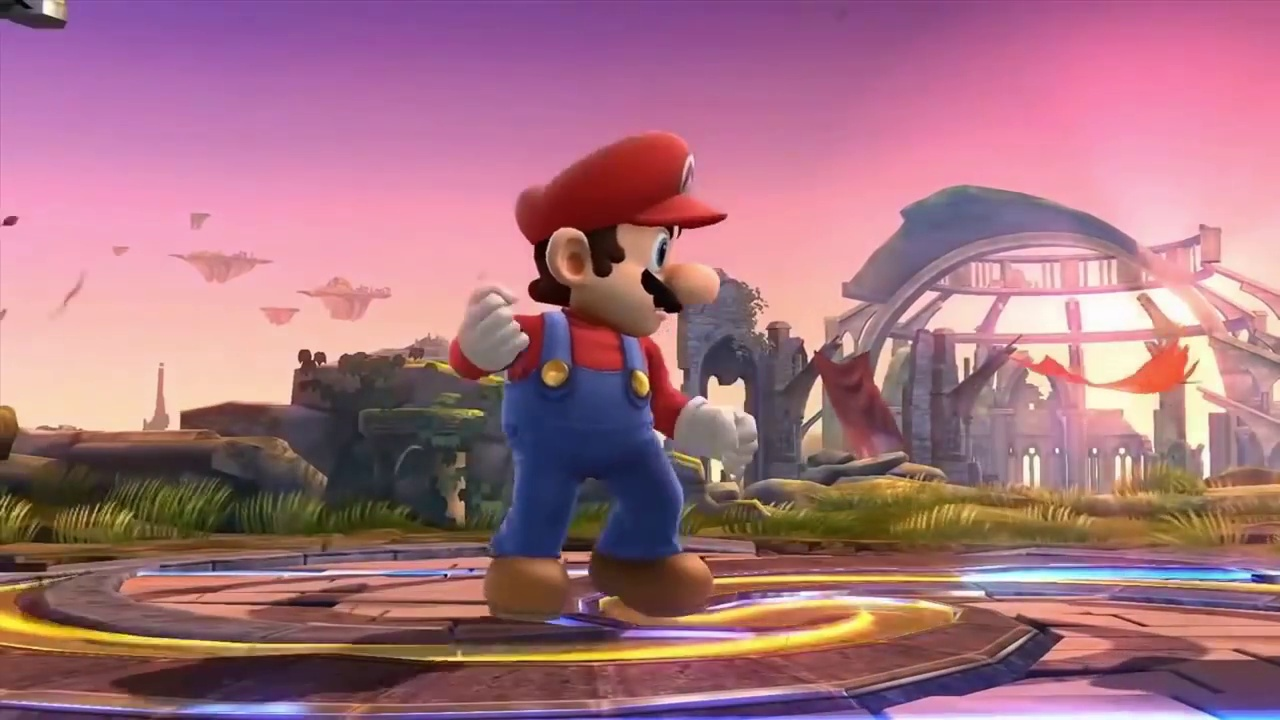Mario: (449, 132, 751, 621)
